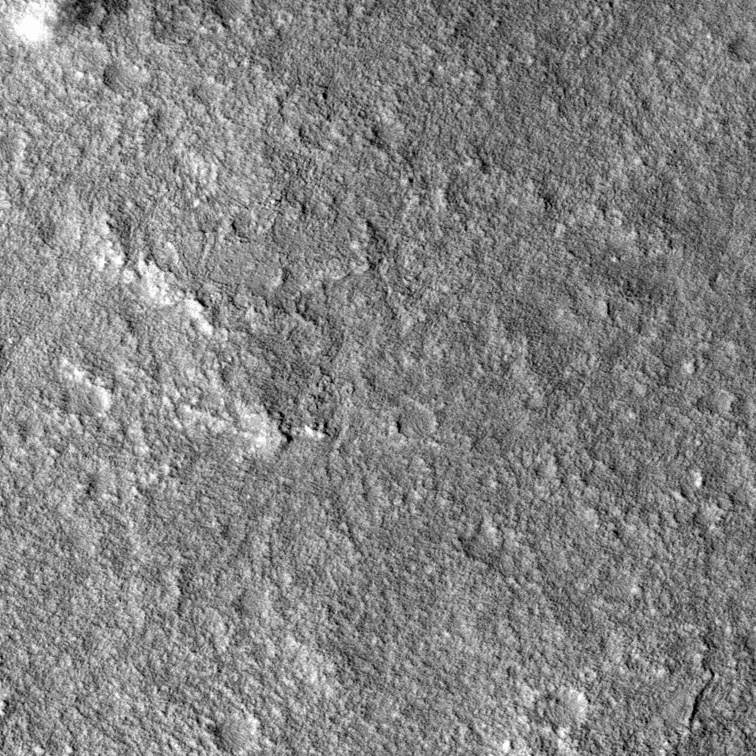dust_devil: (1, 1, 137, 54)
